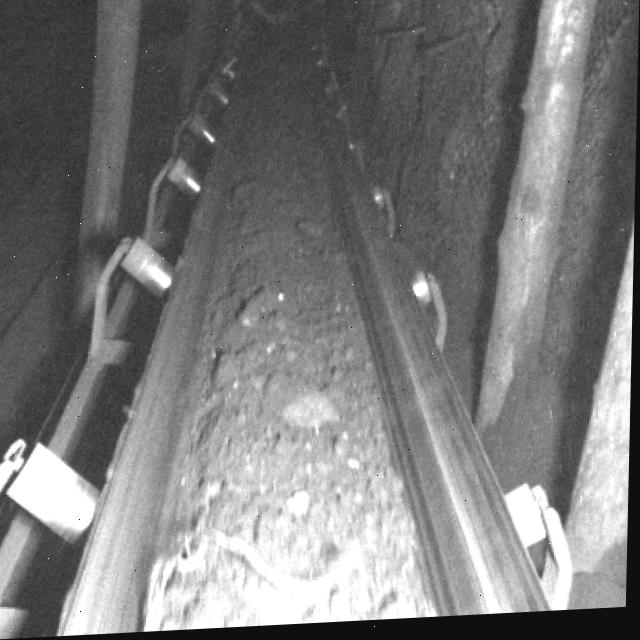bolt: (147, 520, 367, 619)
large_sized_coal: (259, 375, 334, 439)
